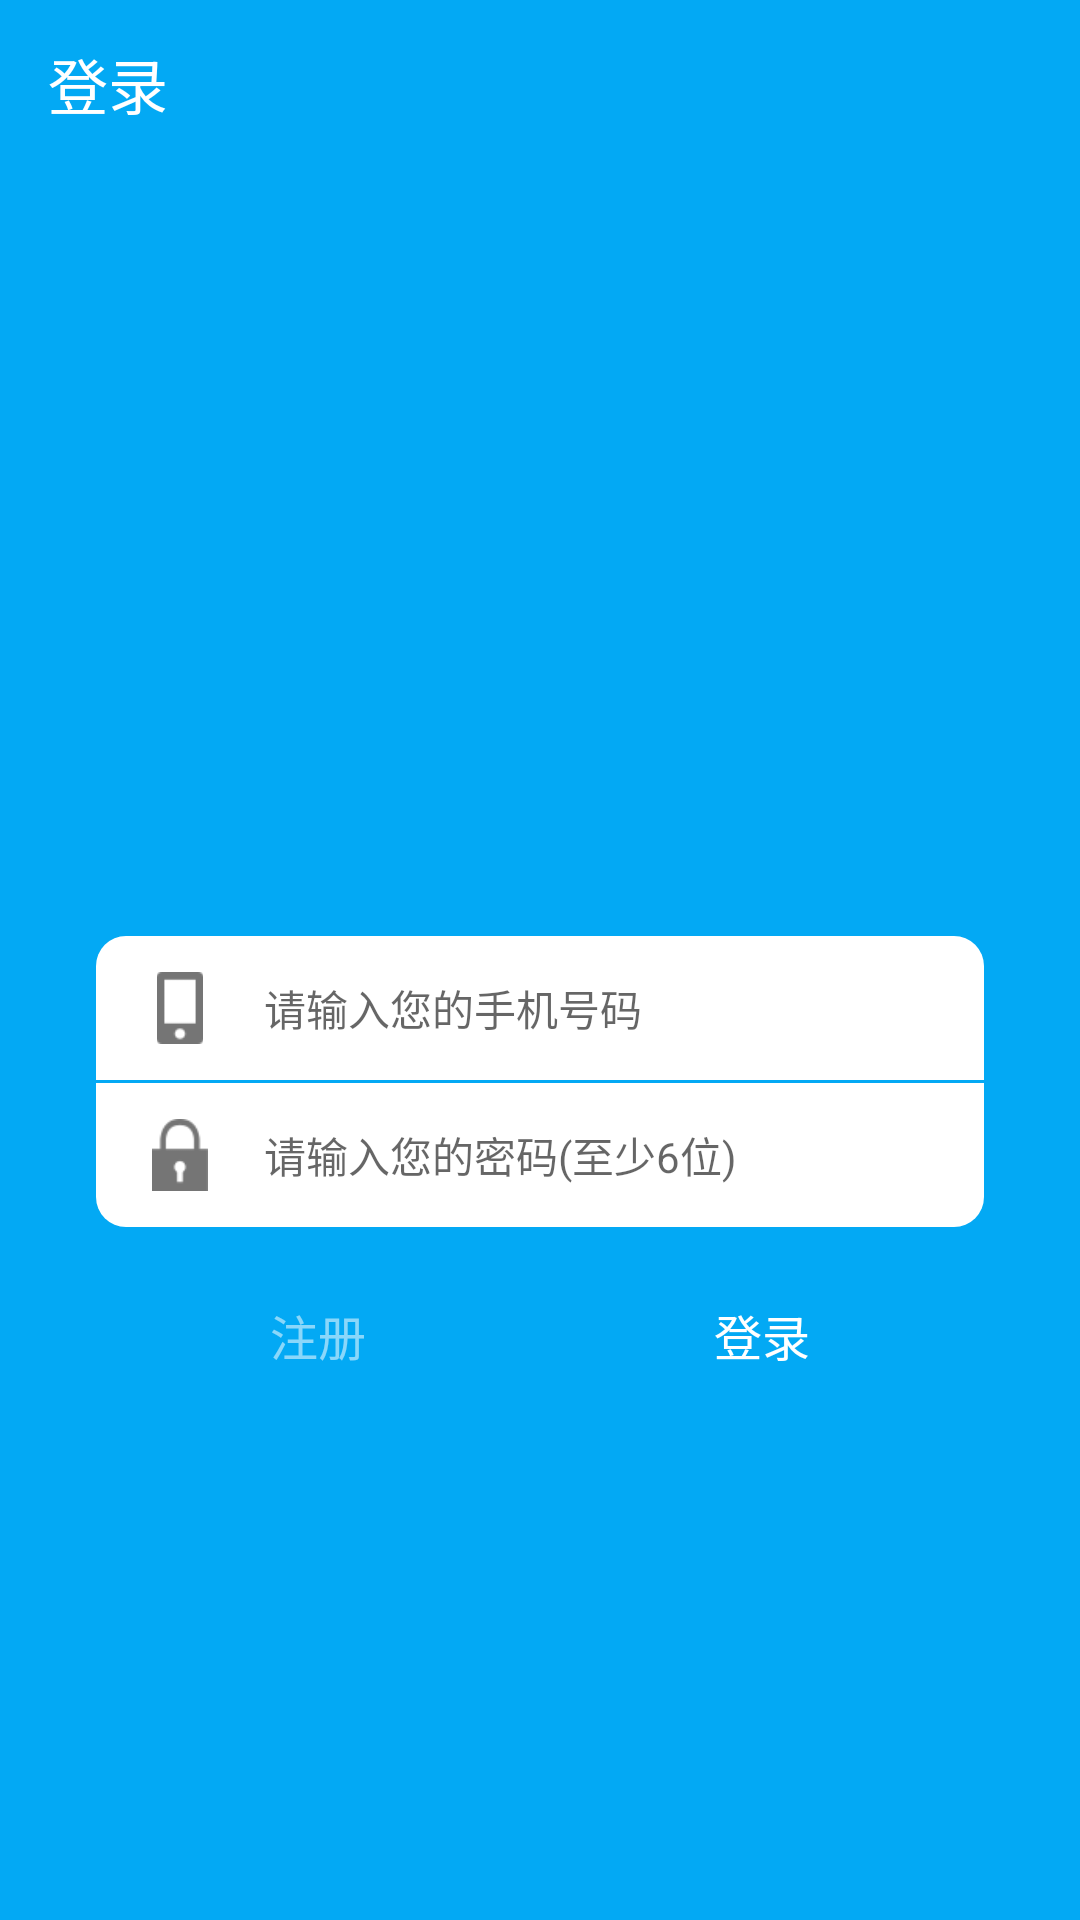

Named icons in this screenshot (1080*1920) and their bounding boxes, bbox=[x1, y1, x2, y2]:
phone: bbox=[157, 972, 203, 1044]
